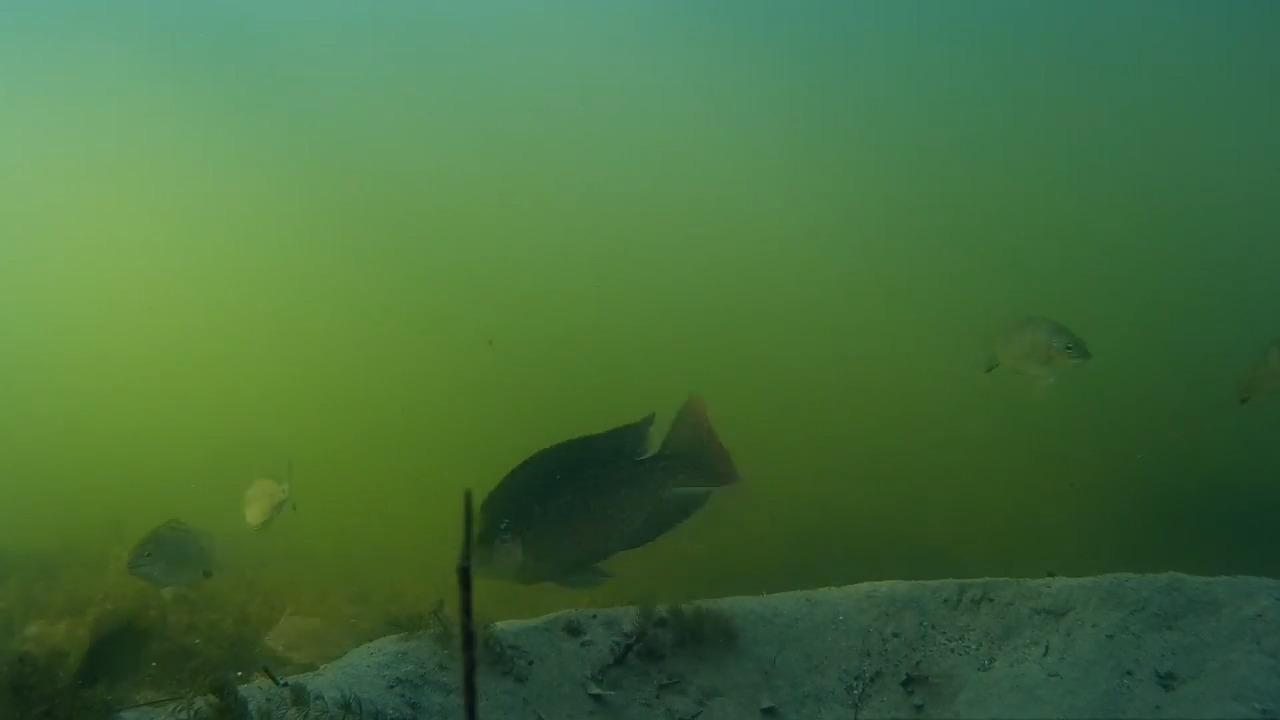Tilapia: (457, 394, 754, 591), (67, 608, 179, 708), (123, 512, 247, 596), (981, 311, 1098, 394), (208, 462, 309, 532), (1215, 336, 1280, 428)
